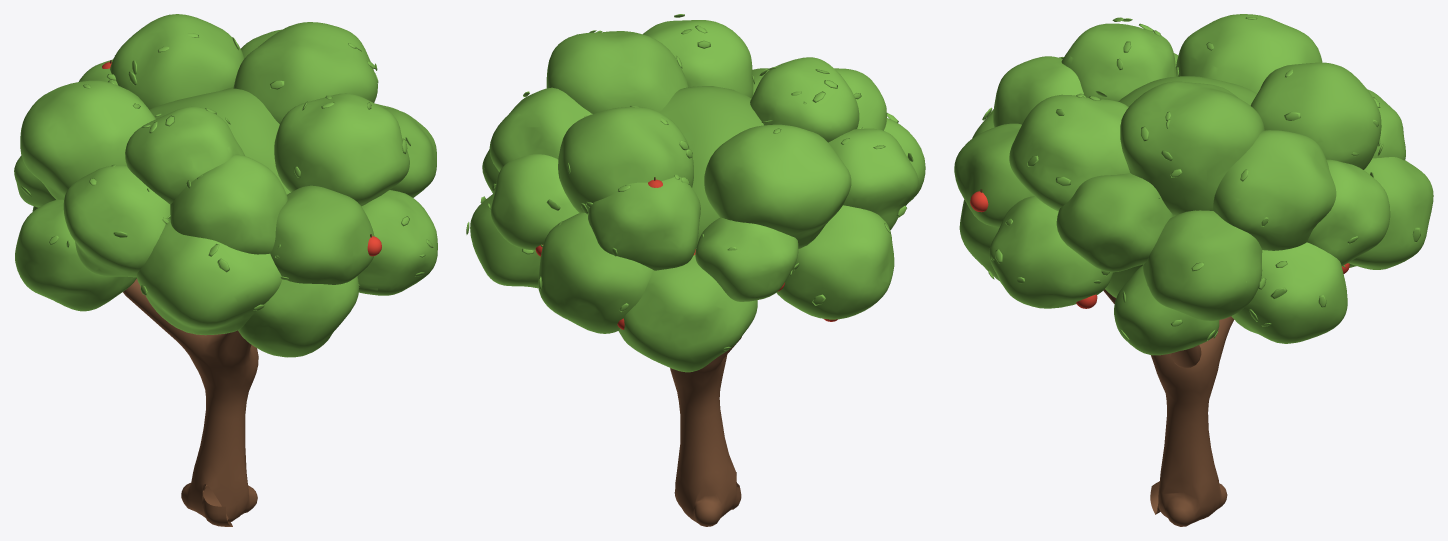
The model's file is apple_tree.fbx.
The picture shows the model from 3 angles, left to right: view 1: azimuth 30°, elevation 25°; view 2: azimuth 150°, elevation 25°; view 3: azimuth 270°, elevation 25°; orthographic projection. The views are drawn at different scales.
Parts seen in each view (by area): view 1: apple_tree; view 2: apple_tree; view 3: apple_tree.
Boxes of the visible parts, x1,y1,x2,y2 form: apple_tree: [14, 14, 437, 526]; apple_tree: [466, 14, 925, 526]; apple_tree: [954, 14, 1433, 526].
Bounding box in the file's own units: 1.85 × 2.05 × 1.88.
